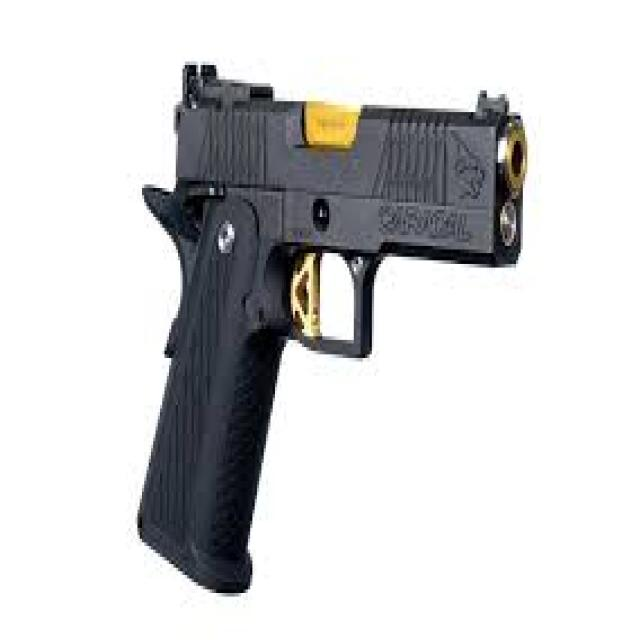Gun: (148, 46, 542, 603)
